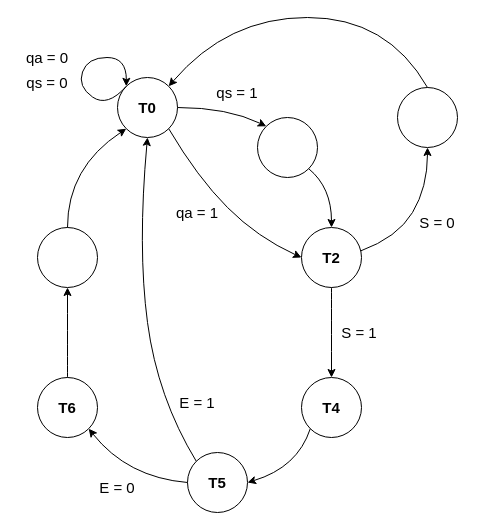
This 484x530 diagram has some shape labels left out. Each missing label, with the centre of its shape:
"T1" goes at (287,147).
"T3" goes at (427,117).
"T7" goes at (67,257).
